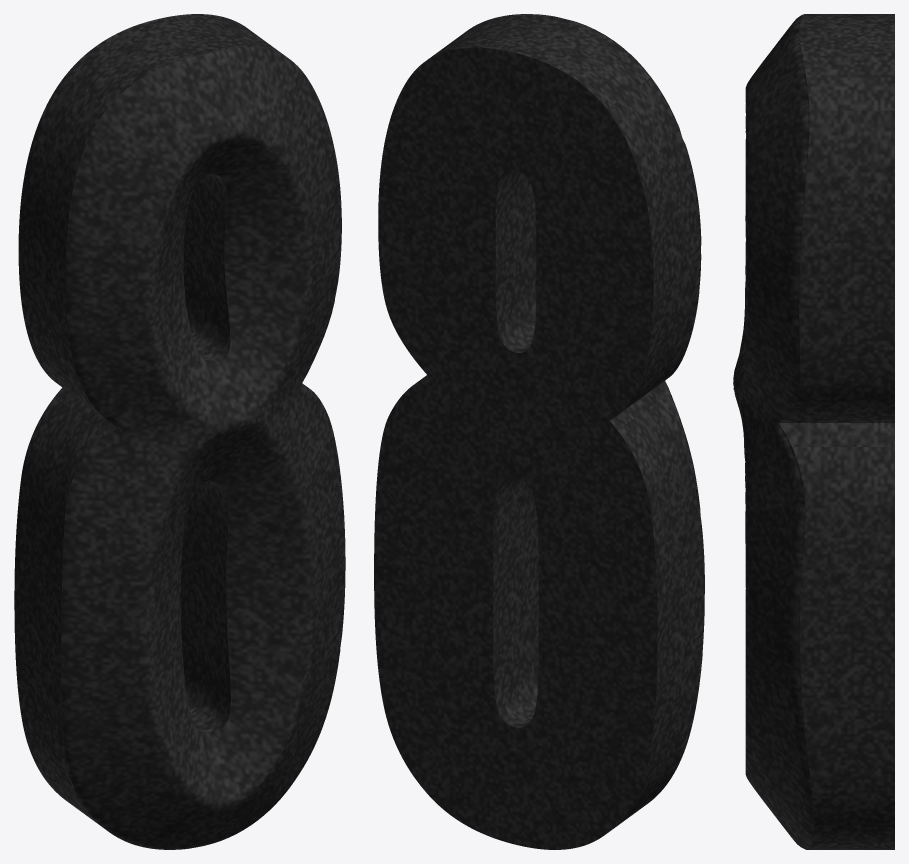
The model's file is digit-8.glb.
3 views of the same model, side by side, from view 1: azimuth 30°, elevation 25°; view 2: azimuth 150°, elevation 25°; view 3: azimuth 270°, elevation 25° (orthographic).
Visible parts, largest first — view 1: Glyph 8; view 2: Glyph 8; view 3: Glyph 8.
Part boxes in pixels (<box>): Glyph 8: <box>14,14,345,849</box>; Glyph 8: <box>374,14,704,849</box>; Glyph 8: <box>733,14,894,849</box>.
Bounding box in the file's own units: 1.39 × 3.71 × 0.68.
1 material, 1 textured.
